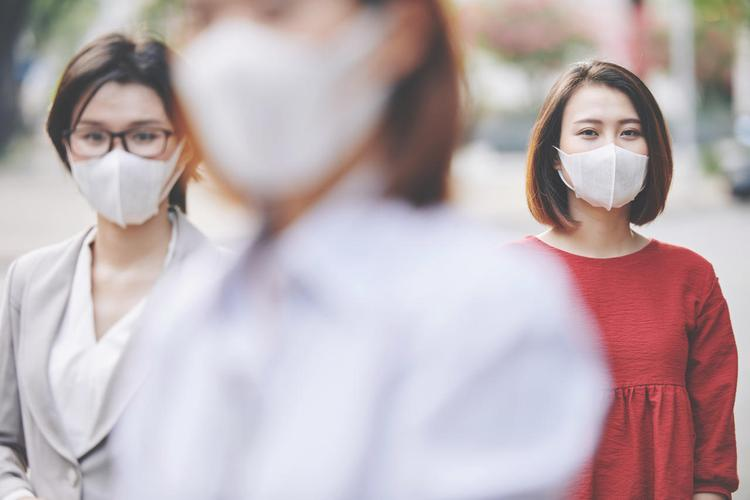mask: (57, 57, 192, 241), (556, 73, 657, 220)
